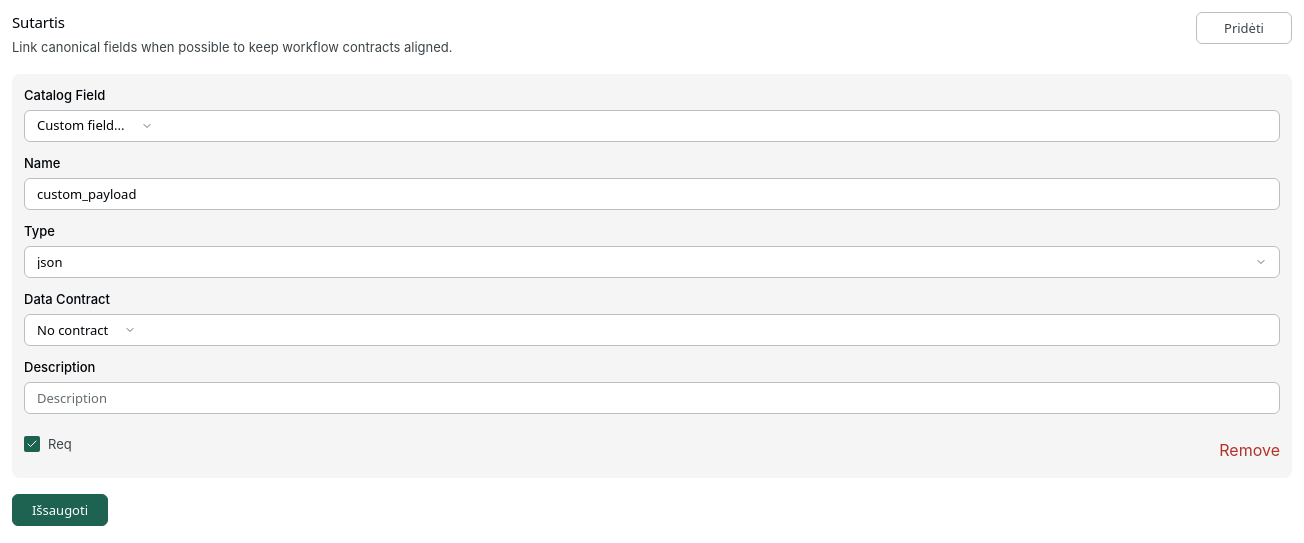
Scenario: localizes the Data Contract unmatched-search state without replacing custom field names
Click the button with aria-label "Data Contract" at {"x": 73, "y": 330}, box [24,314,1280,346]
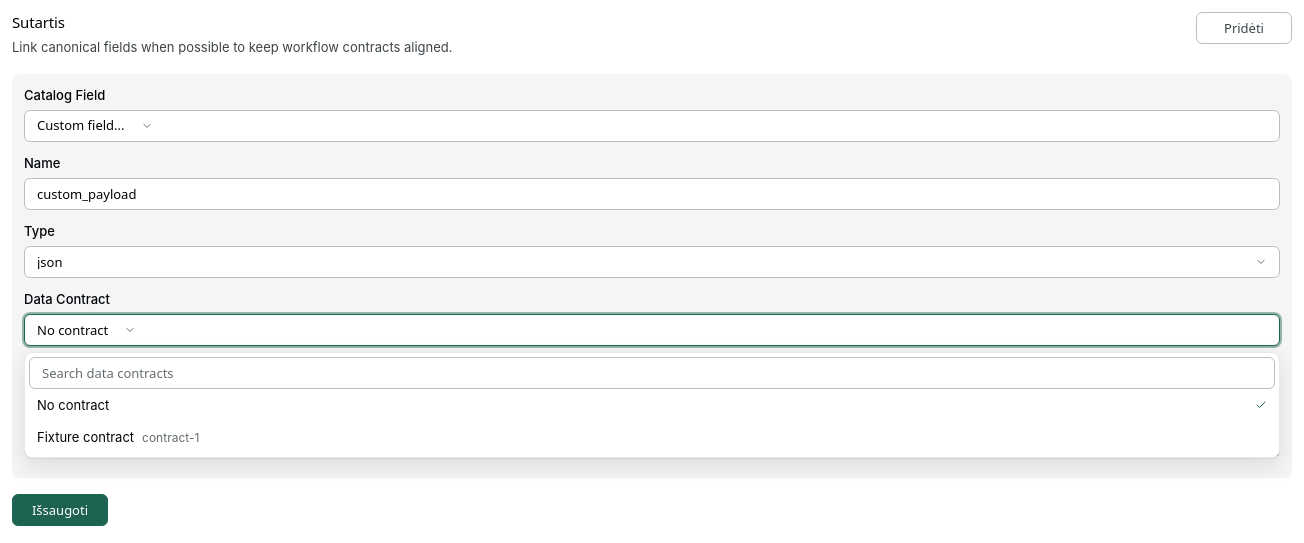
Type "no-such-fixture" into the field with placeholder "Search data contracts" at {"x": 652, "y": 373}, box [29,357,1275,389]
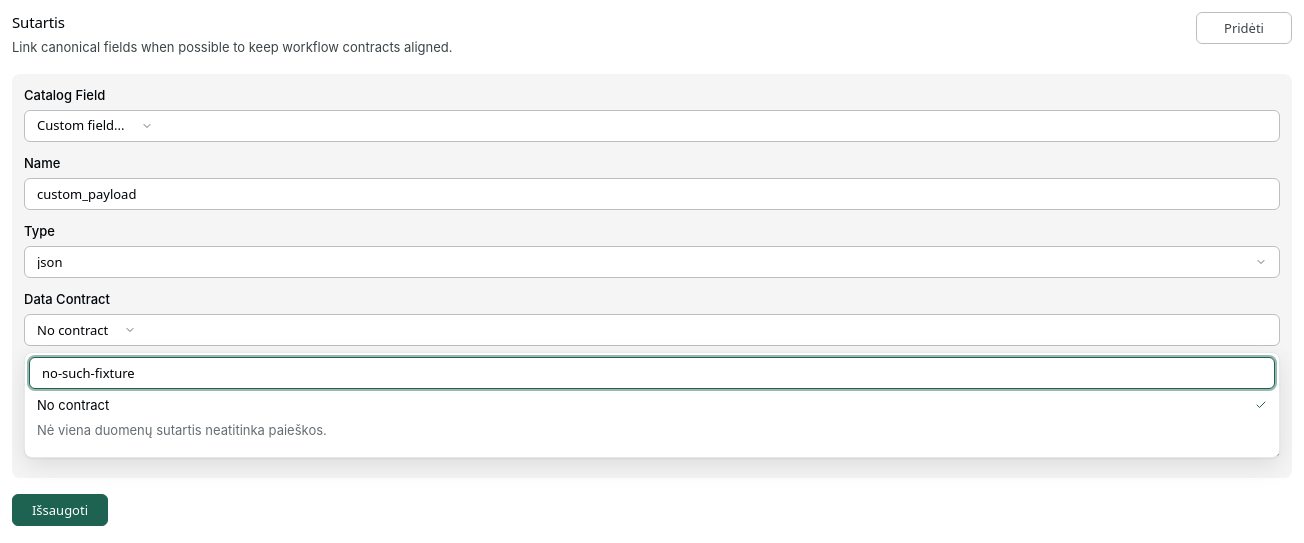
Expected: the field showing "custom_payload" is shown, [24,178,1280,210]
Result: the text "Nė viena duomenų sutartis neatitinka paieškos." is shown at [37,422,327,438]
